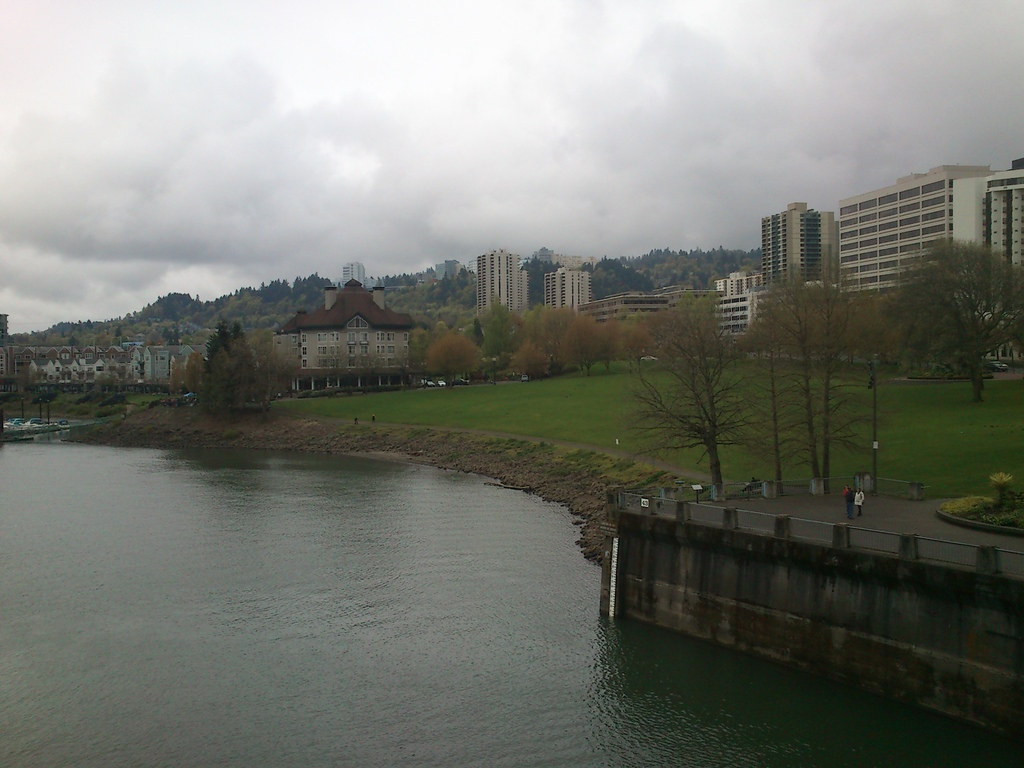Tree: (616, 231, 1023, 508), (312, 296, 730, 394), (1, 266, 472, 343), (872, 231, 1023, 399), (168, 312, 305, 419), (520, 246, 764, 298), (7, 359, 41, 394), (87, 366, 119, 397), (53, 368, 77, 394)
